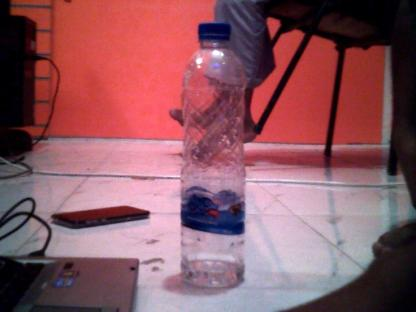Plastic Bottle: (175, 20, 247, 290)
